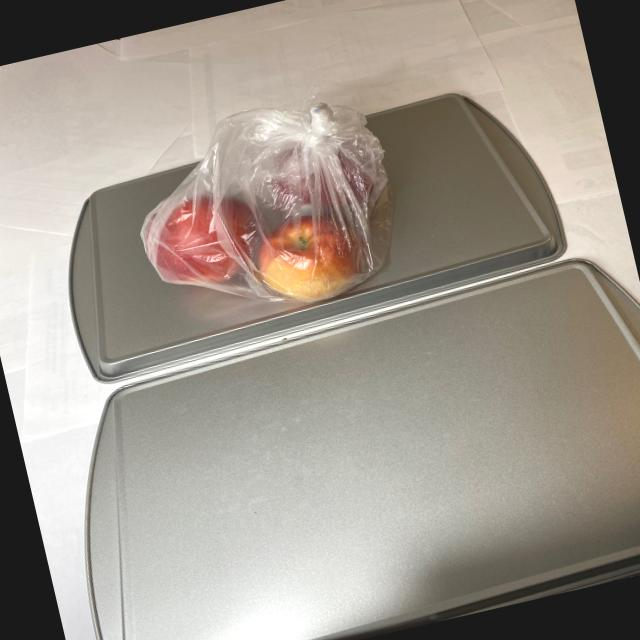apple: (122, 125, 401, 335)
